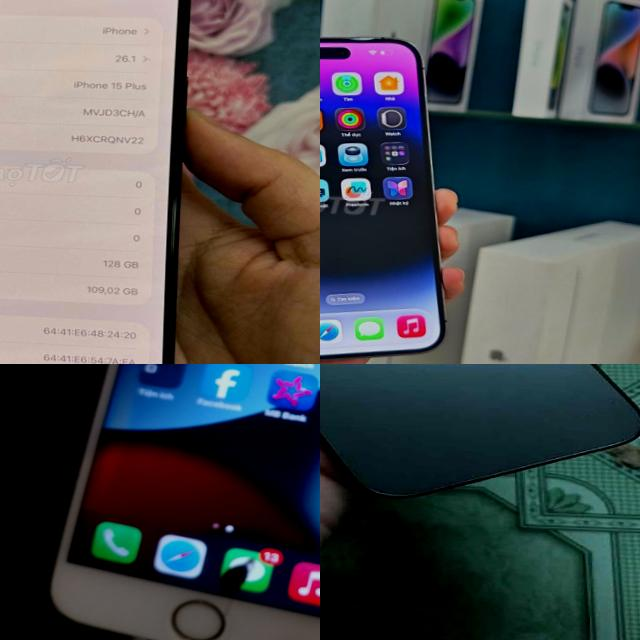physical_damage: (179, 599, 256, 640)
screen_defect: (202, 548, 282, 600)
